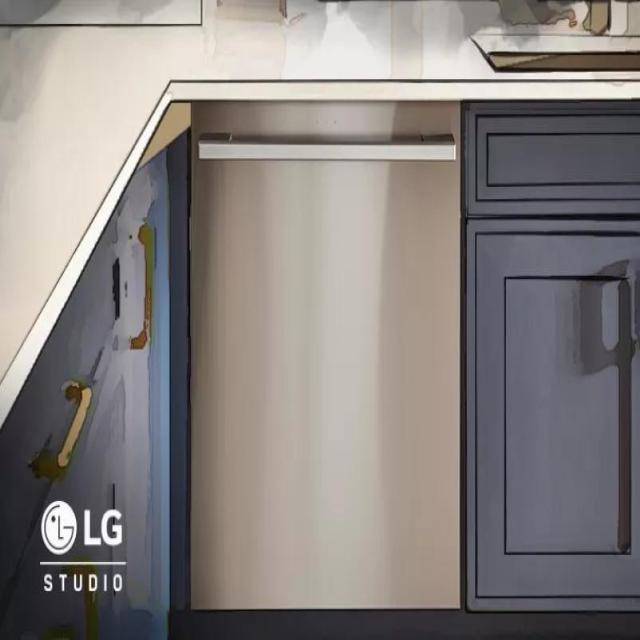dishwasher: (187, 98, 466, 612)
